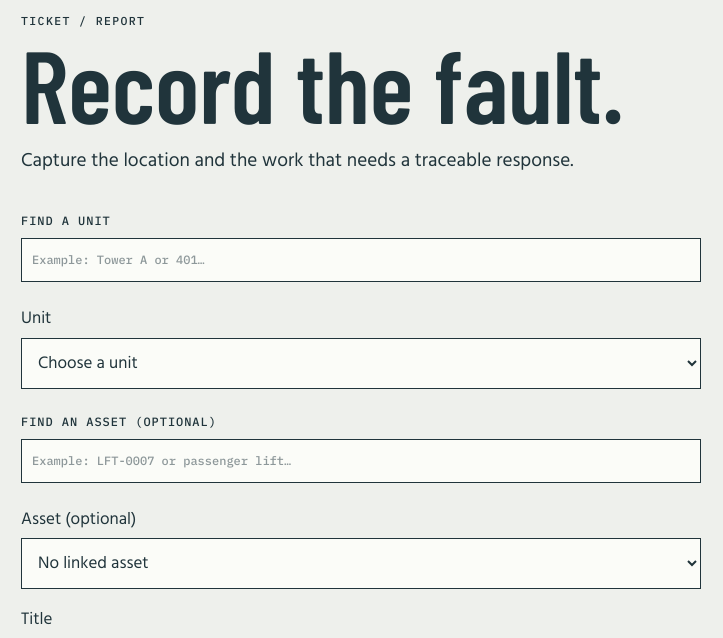
Test case: Ticket client workflow › retains one option for an Asset selected before the search changes
Select "LFT-0007 — Passenger lift" in the dropdown labelled "Asset (optional)" at [361, 564], box [21, 538, 701, 589]
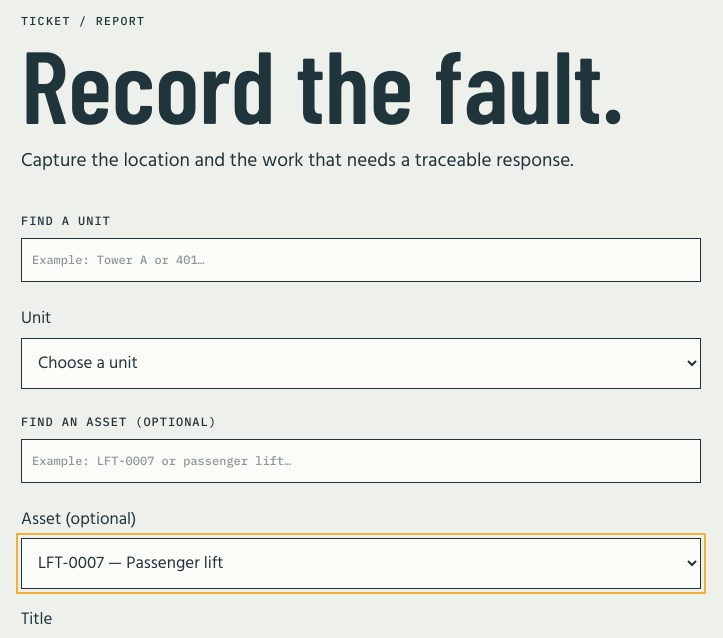
Type "electrical" into the field labelled "Find an asset (optional)" at [361, 461], box [21, 439, 701, 483]
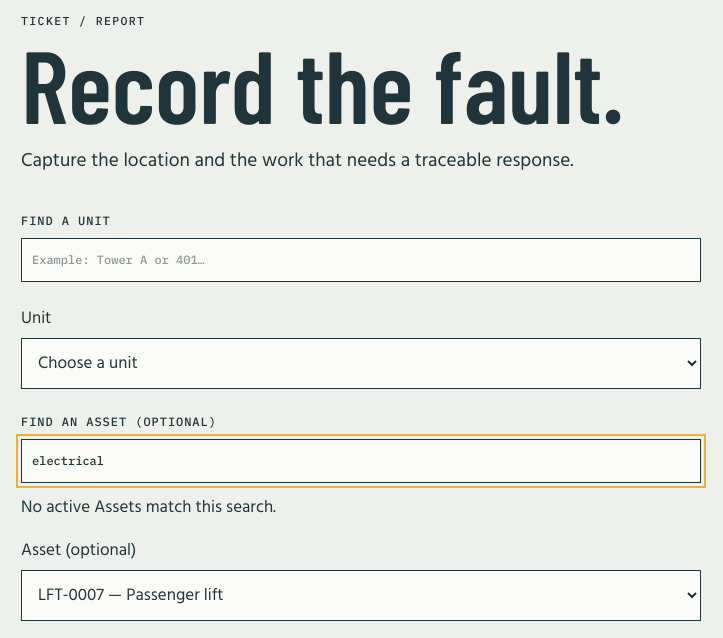
Expected: the text "No active Assets match this search." is shown, [21, 494, 276, 521]
